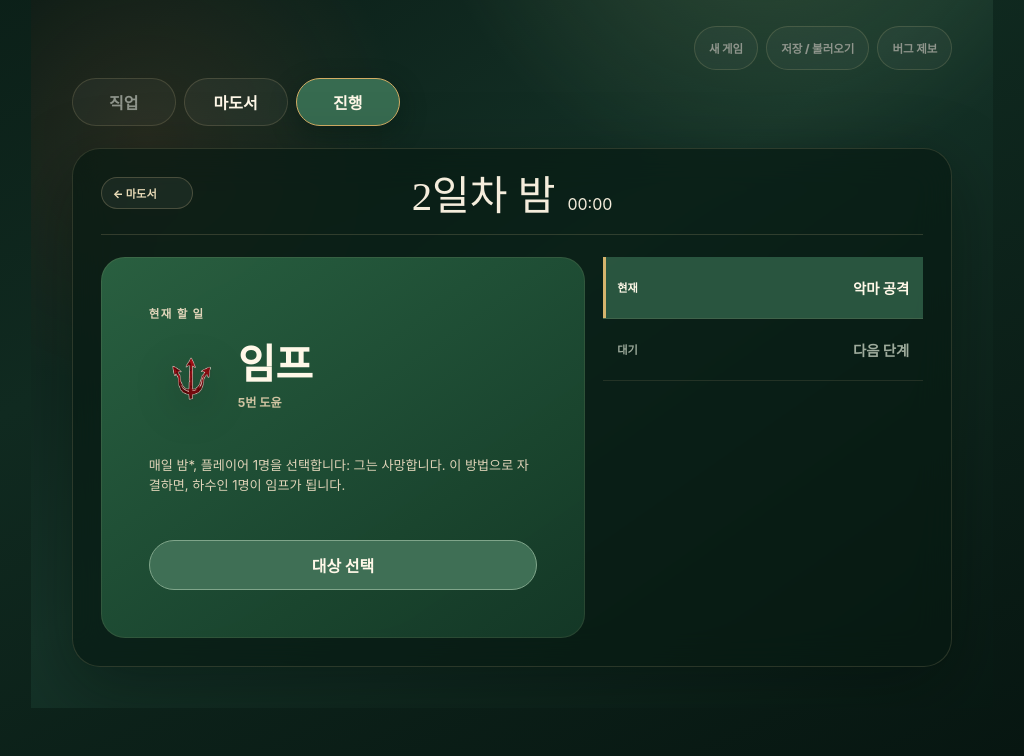
Test: resolves a healthy Soldier inside the ordinary Imp attack flow
(page scrolled)
expect the button with aria-label "임프 캐릭터 상세 열기" is shown: met, box x1=149 y1=336 x2=326 y2=420
Click the button "대상 선택" at coordinates (343, 565), box x1=149 y1=540 x2=537 y2=590
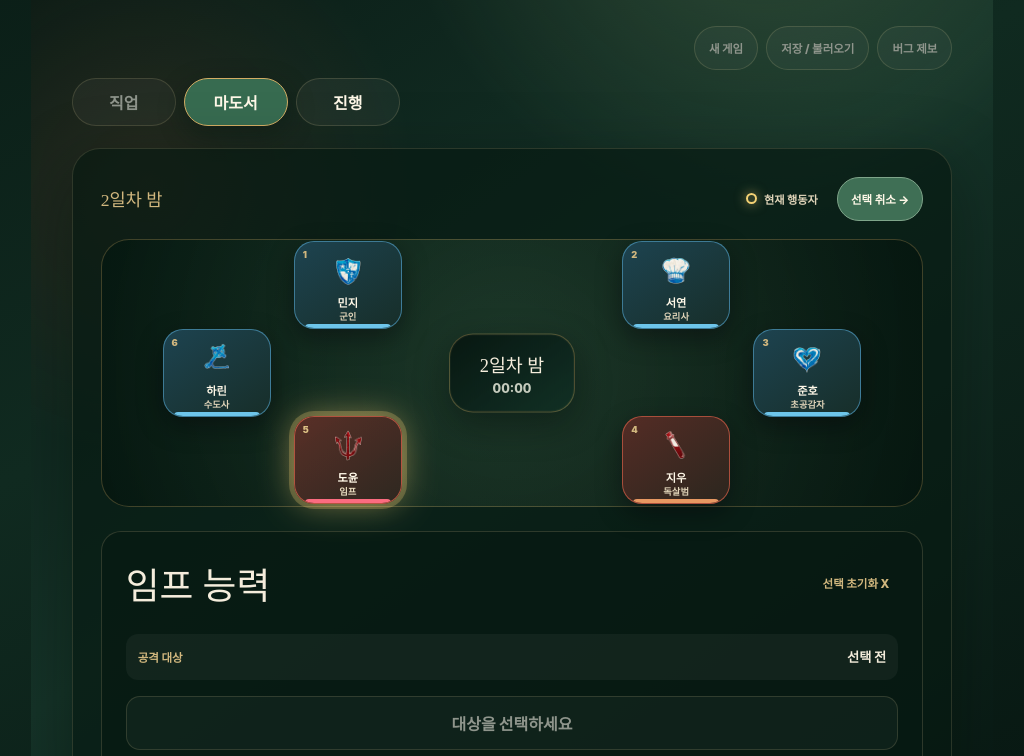
Click the button with aria-label "1번 좌석, 민지" at coordinates (348, 285), box x1=294 y1=241 x2=402 y2=329
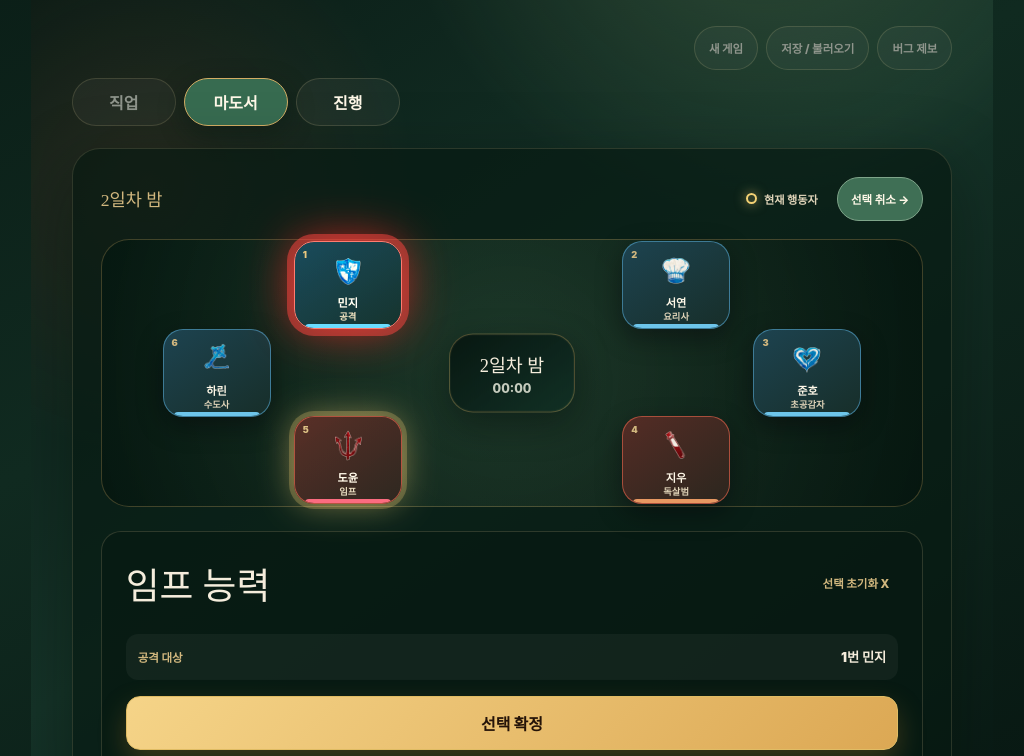
expect the heading "임프 능력" is shown: met, box x1=126 y1=556 x2=270 y2=610
expect the text "공격 대상" is shown: met, box x1=138 y1=649 x2=183 y2=665
expect the text "공격" is shown: met, box x1=339 y1=311 x2=356 y2=322
Click the button "선택 확정" at coordinates (512, 723), box x1=126 y1=696 x2=898 y2=750
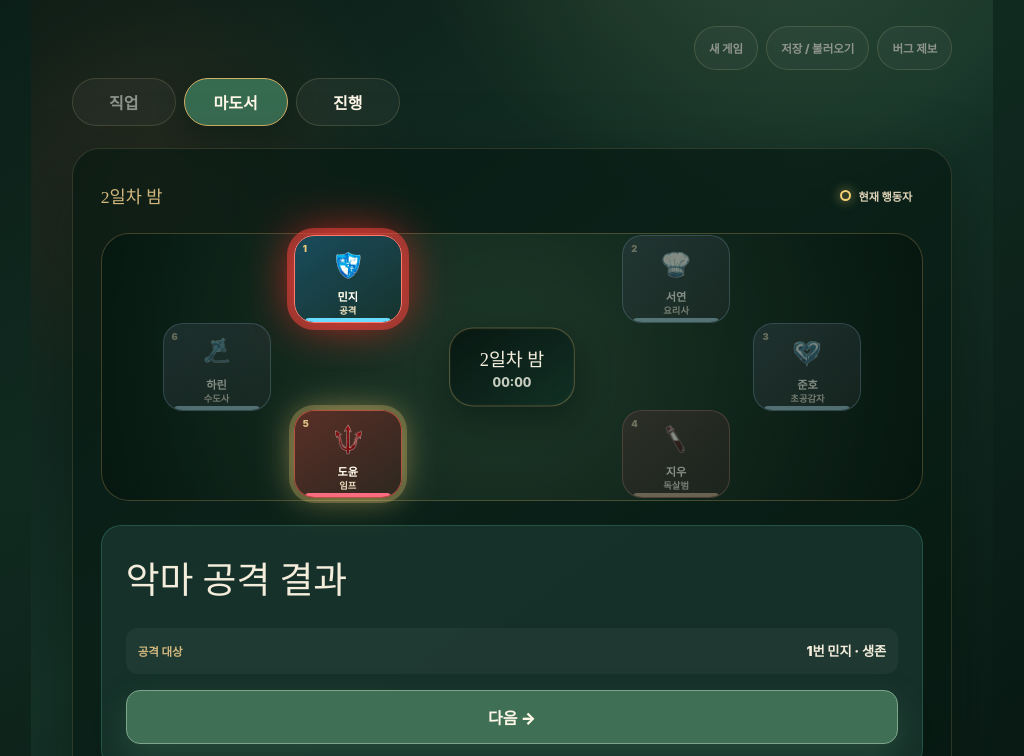
expect the button "1 민지 공격" is shown: met, box x1=294 y1=235 x2=402 y2=323
expect the heading "악마 공격 결과" is shown: met, box x1=126 y1=550 x2=347 y2=604
expect the text "1번 민지 · 생존" is shown: met, box x1=806 y1=641 x2=886 y2=660
Click the button "다음 →" at coordinates (512, 717), box x1=126 y1=690 x2=898 y2=744
(page scrolled)
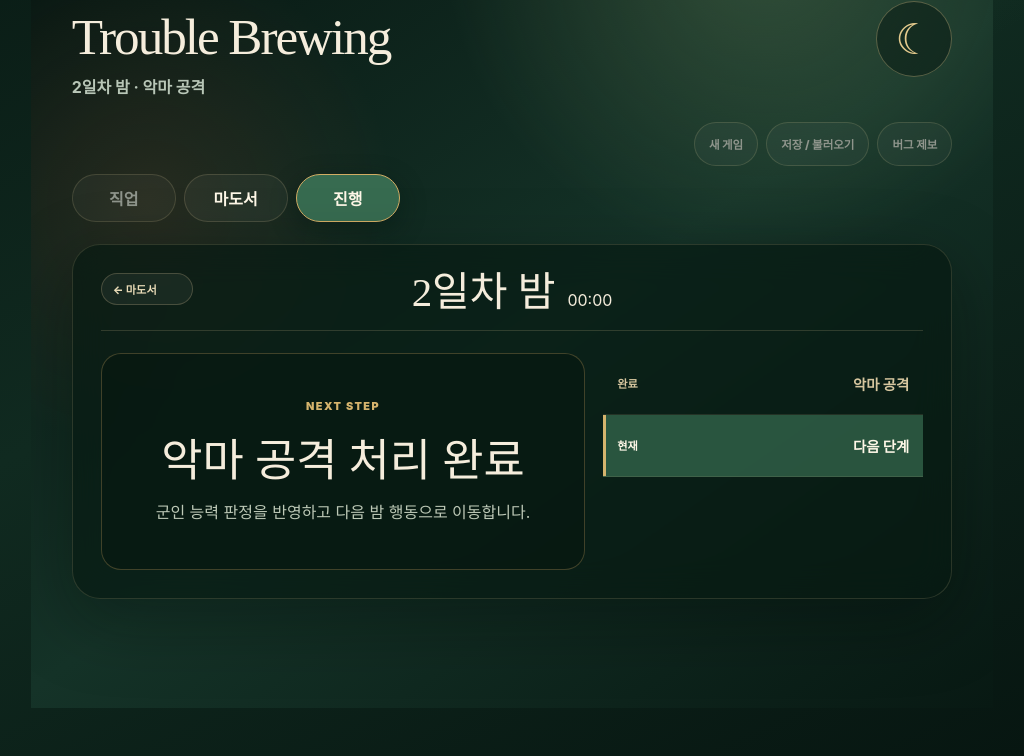
expect the element named "군인 다음 단계" is shown: met, box x1=101 y1=353 x2=585 y2=570
